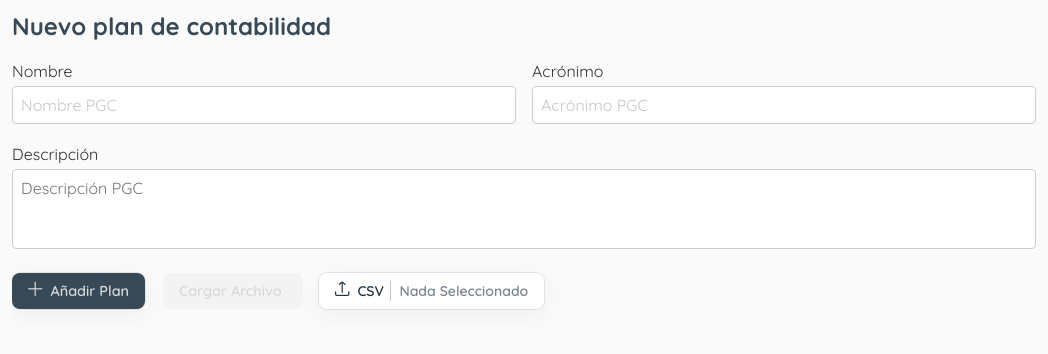
it: AddAccountingPlan › Debería mostrar un mensaje de error si algún campo está vacío
Click the button "Añadir plan": [79, 291] box [12,273,145,309]
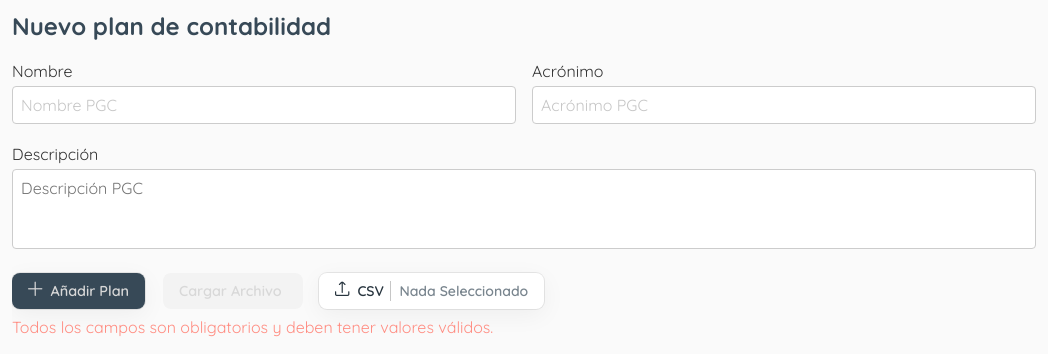
Expected: the text "Todos los campos son obligatorios y deben tener valores válidos." is shown, [12,317,493,337]
